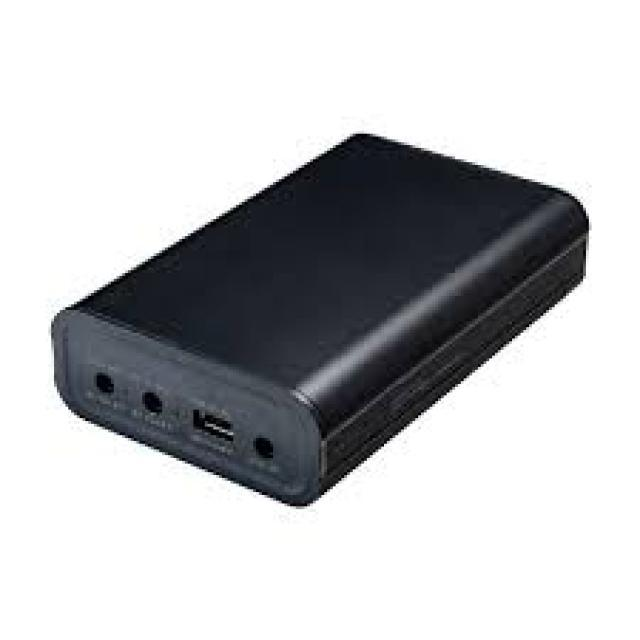Battery: (30, 80, 628, 526)
